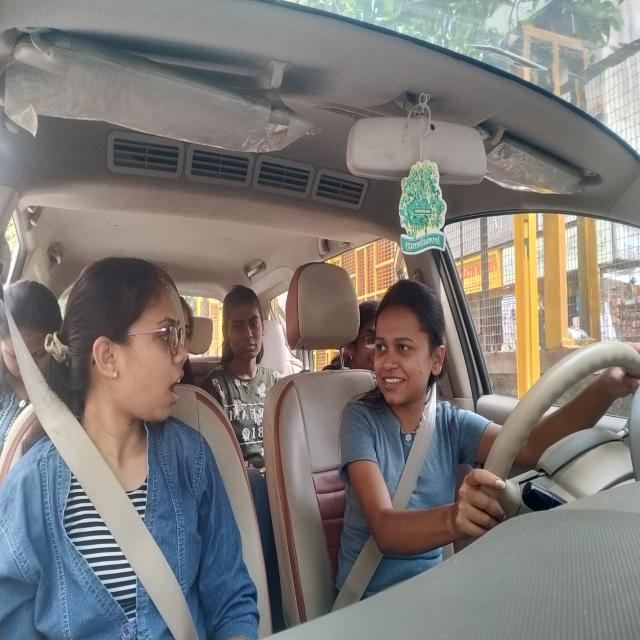LeftRight: (374, 292, 446, 407)
person: (76, 255, 192, 433), (219, 279, 276, 372), (7, 279, 57, 382), (353, 296, 377, 367)
talking: (161, 370, 187, 402), (381, 373, 406, 391)
